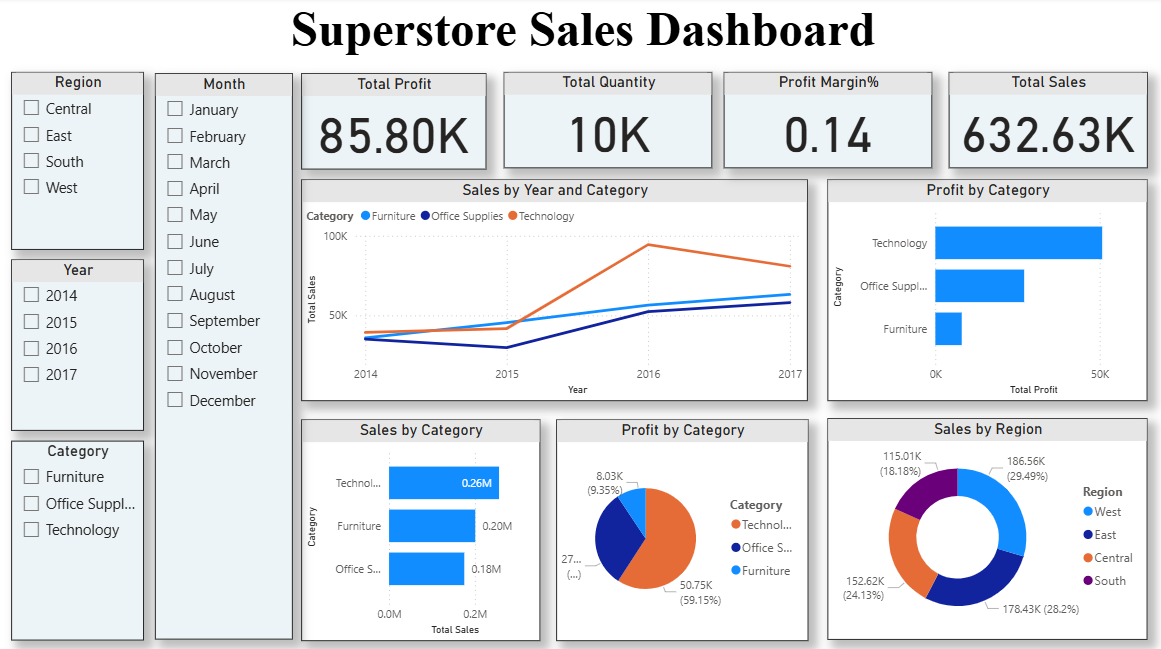

The page's visual inventory and layout, read from the dashboard file:
{"tool":"powerbi","page":{"name":"Page 1","canvas":[1280,720],"ordinal":0},"visuals":[{"type":"card","title":"Total Profit","fields":{"Values":["Sample - Superstore.Total Profit"]},"box":[330.7,83.7,203.1,105.7],"z":0},{"type":"textbox","box":[0,0,1280.3,71.4],"z":1000},{"type":"card","title":"Total Quantity","fields":{"Values":["Sample - Superstore.Total Quantity"]},"box":[553,82.3,229.2,105.7],"z":2000},{"type":"card","title":"Total Sales","fields":{"Values":["Sample - Superstore.Total Sales"]},"box":[1041.5,82.3,218.2,105.7],"z":3000},{"type":"clusteredBarChart","title":" Sales by Category","fields":{"Y":["Sample - Superstore.Total Sales"],"Category":["Sample - Superstore.Category"]},"box":[330.7,463.8,262.1,242.9],"z":4000},{"type":"lineChart","title":" Sales by Year and Category","fields":{"Y":["Sample - Superstore.Total Sales"],"Category":["Calendar.Date.Variation.Date Hierarchy.Year"],"Series":["Sample - Superstore.Category"]},"box":[330.7,200.3,555.7,242.9],"z":5000},{"type":"clusteredBarChart","title":"Profit by Category","fields":{"Y":["Sample - Superstore.Total Profit"],"Category":["Sample - Superstore.Category"]},"box":[908.4,200.3,351.3,242.9],"z":6000},{"type":"donutChart","title":" Sales by Region","fields":{"Y":["Sample - Superstore.Total Sales"],"Category":["Sample - Superstore.Region"]},"box":[908.4,462.4,351.3,242.9],"z":7000},{"type":"slicer","title":"Region","fields":{"Values":["Sample - Superstore.Region"]},"box":[12.3,82.3,145.5,194.9],"z":8000},{"type":"slicer","title":"Year","fields":{"Values":["Calendar.Date.Variation.Date Hierarchy.Year"]},"box":[12.3,288.2,145.5,188],"z":9000},{"type":"slicer","title":"Category","fields":{"Values":["Sample - Superstore.Category"]},"box":[12.3,487.1,145.5,219.6],"z":10000},{"type":"pieChart","title":"Profit by Category","fields":{"Category":["Sample - Superstore.Category"],"Y":["Sample - Superstore.Total Profit"]},"box":[610,464,277,243],"z":11000},{"type":"slicer","title":"Month","fields":{"Values":["Calendar.Date.Variation.Date Hierarchy.Month"]},"box":[170.2,83.7,150.9,621.6],"z":12000},{"type":"card","title":"Profit Margin%","fields":{"Values":["Sample - Superstore.Profit Margin %"]},"box":[794.5,82.3,229.2,105.7],"z":12001}]}

Visuals, with their boxes in screenshot pixels (x1, y1, x2, y2), scaled from the page's 1280x720 canvas onto the 1161x649 screenshot:
"Total Profit" card: 300 75 484 171
textbox: 0 0 1160 64
"Total Quantity" card: 502 74 709 169
"Total Sales" card: 945 74 1143 169
" Sales by Category" clusteredBarChart: 300 418 538 637
" Sales by Year and Category" lineChart: 300 181 804 399
"Profit by Category" clusteredBarChart: 824 181 1143 399
" Sales by Region" donutChart: 824 417 1143 636
"Region" slicer: 11 74 143 250
"Year" slicer: 11 260 143 429
"Category" slicer: 11 439 143 637
"Profit by Category" pieChart: 553 418 805 637
"Month" slicer: 154 75 291 636
"Profit Margin%" card: 721 74 929 169
